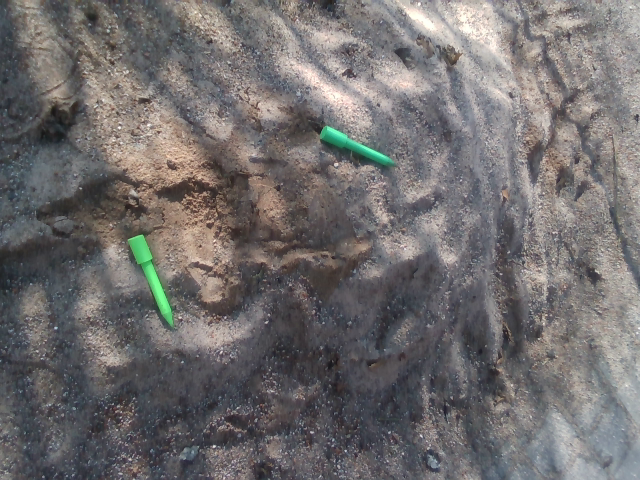Probe: (121, 231, 179, 333), (316, 122, 400, 173)
